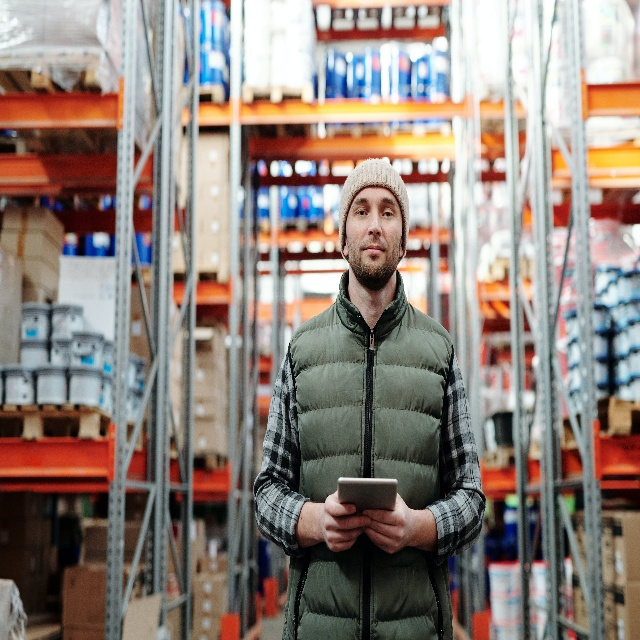Sin_guantes: (320, 487, 371, 552), (361, 490, 411, 556)
